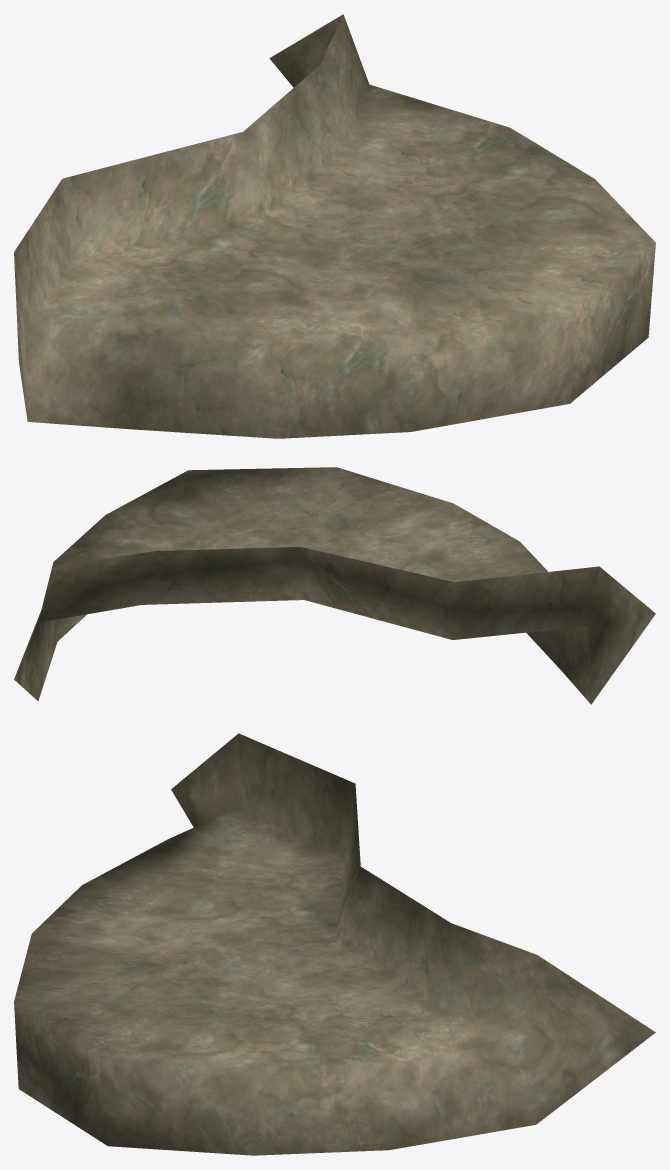
Rendered from OVERHILL_A_01_OBJECT224.fbx.
The picture shows the model from 3 angles, top to bottom: view 1: azimuth 30°, elevation 25°; view 2: azimuth 150°, elevation 25°; view 3: azimuth 270°, elevation 25°; orthographic projection. The views are drawn at different scales.
Visible parts, largest first — view 1: OVERHILL_A_01_OBJECT224; view 2: OVERHILL_A_01_OBJECT224; view 3: OVERHILL_A_01_OBJECT224.
Part boxes in pixels (left/top/right/bottom): OVERHILL_A_01_OBJECT224: left=14, top=14, right=655, bottom=438; OVERHILL_A_01_OBJECT224: left=14, top=467, right=655, bottom=704; OVERHILL_A_01_OBJECT224: left=14, top=733, right=655, bottom=1155.
Size of the model in its own units: 42636 by 11250 by 41320.
1 material, 1 textured.
